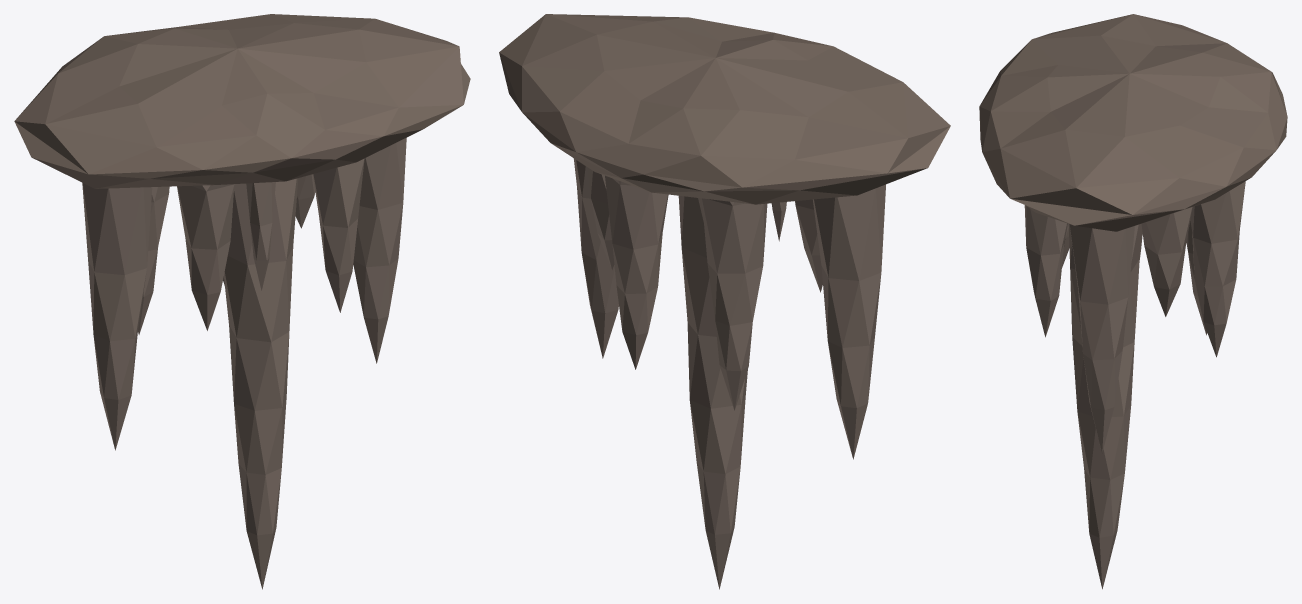
Rendered from stage4_stalactite_cluster.glb.
The picture shows the model from 3 angles, left to right: view 1: azimuth 30°, elevation 25°; view 2: azimuth 150°, elevation 25°; view 3: azimuth 270°, elevation 25°; orthographic projection. The views are drawn at different scales.
Parts seen in each view (by area): view 1: stalactite-cluster-rock; view 2: stalactite-cluster-rock; view 3: stalactite-cluster-rock.
Part boxes in pixels (left/top/right/bottom): stalactite-cluster-rock: left=14, top=14, right=470, bottom=589; stalactite-cluster-rock: left=499, top=14, right=950, bottom=589; stalactite-cluster-rock: left=979, top=14, right=1287, bottom=589.
Size of the model in its own units: 1.47 by 1.8 by 0.9834.
